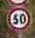limite 50: (6, 6, 31, 31)
